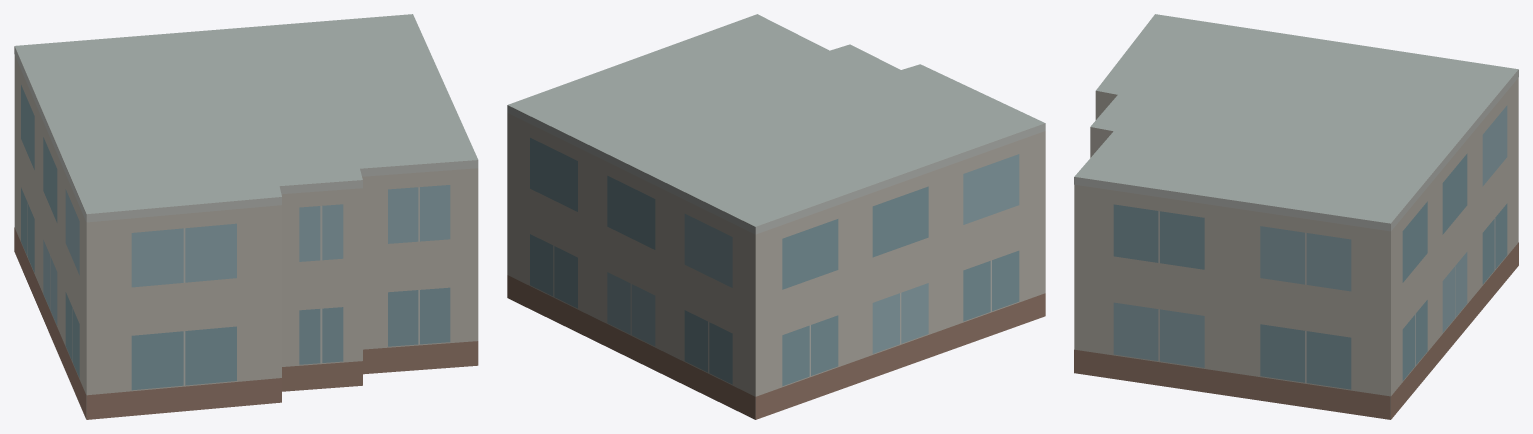
File: survey-upis-32682196.glb
3 views of the same model, side by side, from view 1: azimuth 30°, elevation 25°; view 2: azimuth 150°, elevation 25°; view 3: azimuth 270°, elevation 25° (orthographic). The views are drawn at different scales.
Visible parts, largest first — view 1: survey-upis-32682196.tmp; view 2: survey-upis-32682196.tmp; view 3: survey-upis-32682196.tmp.
Part boxes in pixels (x1,y1,x2,y2): survey-upis-32682196.tmp: (14,14,478,419); survey-upis-32682196.tmp: (507,14,1045,419); survey-upis-32682196.tmp: (1074,14,1518,419).
Size of the model in its own units: 13.98 by 6.1 by 12.53.
